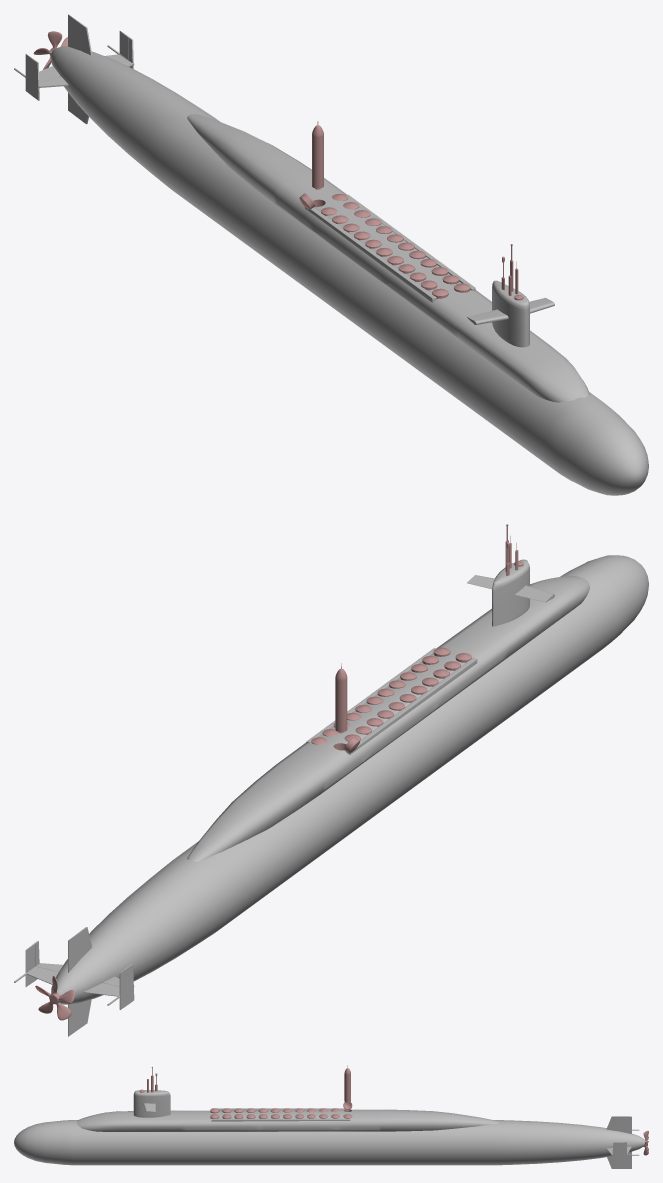
The model's file is ohio submarine.fbx.
3 views of the same model, one above another, from view 1: azimuth 30°, elevation 25°; view 2: azimuth 150°, elevation 25°; view 3: azimuth 270°, elevation 25° (orthographic). The views are drawn at different scales.
Visible parts, largest first — view 1: submarine, polySurface1, tower, pCube231, left_silos_covers, right_silos_covers, trident_missile; view 2: submarine, polySurface1, tower, pCube231, right_silos_covers, left_silos_covers, trident_missile, turbine; view 3: submarine, polySurface1, tower, pCube231, left_silos_covers, right_silos_covers, pCube240, trident_missile, pCube248.
Part boxes in pixels (left/top/right/bottom): submarine: left=51, top=46, right=648, bottom=495; polySurface1: left=187, top=114, right=589, bottom=402; tower: left=492, top=280, right=529, bottom=347; pCube231: left=304, top=194, right=475, bottom=302; left_silos_covers: left=332, top=193, right=470, bottom=292; right_silos_covers: left=321, top=207, right=448, bottom=298; trident_missile: left=312, top=125, right=323, bottom=188; submarine: left=51, top=555, right=648, bottom=1004; polySurface1: left=187, top=576, right=589, bottom=861; tower: left=492, top=559, right=529, bottom=626; pCube231: left=306, top=648, right=477, bottom=754; right_silos_covers: left=344, top=653, right=471, bottom=741; left_silos_covers: left=311, top=647, right=450, bottom=744; trident_missile: left=335, top=669, right=347, bottom=731; turbine: left=35, top=976, right=74, bottom=1020; submarine: left=14, top=1120, right=644, bottom=1165; polySurface1: left=76, top=1109, right=498, bottom=1131; tower: left=133, top=1090, right=170, bottom=1117; pCube231: left=211, top=1108, right=350, bottom=1121; left_silos_covers: left=210, top=1114, right=352, bottom=1118; right_silos_covers: left=210, top=1108, right=339, bottom=1113; pCube240: left=616, top=1116, right=631, bottom=1133; trident_missile: left=344, top=1068, right=350, bottom=1102; pCube248: left=617, top=1142, right=626, bottom=1162.
Bounding box in the file's own units: 1.3 × 2.44 × 13.72.
